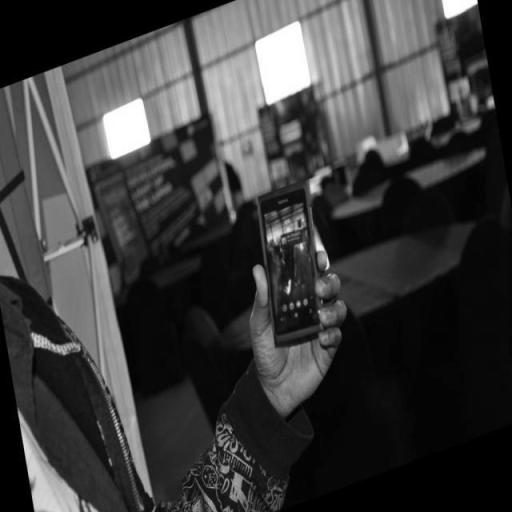phone: (255, 183, 322, 355)
